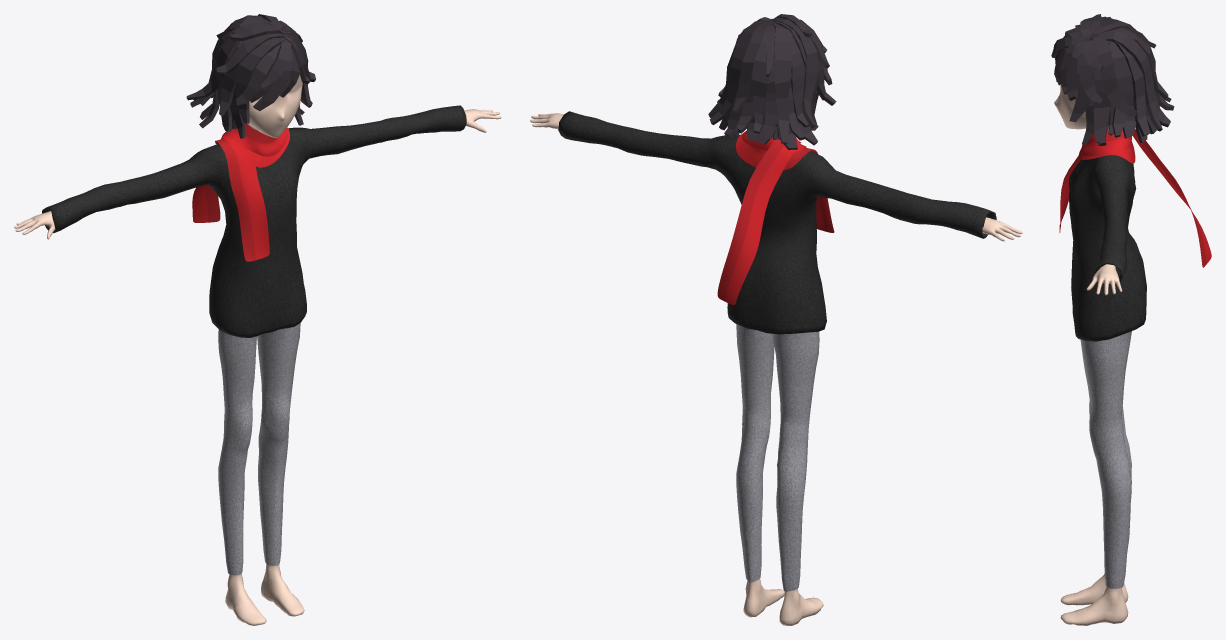
The model's file is girl_OBJ.obj.
3 views of the same model, side by side, from view 1: azimuth 30°, elevation 25°; view 2: azimuth 150°, elevation 25°; view 3: azimuth 270°, elevation 25° (orthographic).
Visible parts, largest first — view 1: Top_pERSONAJE.004, bot_pERSONAJE.005, hair_Hair001.baked.001, scarf_Cube, body_pERSONAJE.002, Head_Hair001.baked.005; view 2: Top_pERSONAJE.004, bot_pERSONAJE.005, hair_Hair001.baked.001, scarf_Cube, body_pERSONAJE.002; view 3: Top_pERSONAJE.004, hair_Hair001.baked.001, bot_pERSONAJE.005, body_pERSONAJE.002, scarf_Cube, Head_Hair001.baked.005.
Part boxes in pixels (x1,y1,x2,y2): Top_pERSONAJE.004: [42, 105, 466, 337]; bot_pERSONAJE.005: [218, 323, 300, 575]; hair_Hair001.baked.001: [186, 14, 315, 138]; scarf_Cube: [192, 123, 289, 261]; body_pERSONAJE.002: [14, 109, 501, 625]; Head_Hair001.baked.005: [249, 74, 302, 137]; Top_pERSONAJE.004: [558, 111, 996, 334]; bot_pERSONAJE.005: [736, 324, 819, 591]; hair_Hair001.baked.001: [708, 14, 836, 149]; scarf_Cube: [717, 131, 834, 305]; body_pERSONAJE.002: [530, 113, 1022, 625]; Top_pERSONAJE.004: [1069, 155, 1146, 341]; hair_Hair001.baked.001: [1051, 14, 1174, 145]; bot_pERSONAJE.005: [1080, 331, 1131, 588]; body_pERSONAJE.002: [1060, 125, 1128, 625]; scarf_Cube: [1059, 129, 1211, 267]; Head_Hair001.baked.005: [1054, 84, 1086, 129].
Size of the model in its own units: 1.39 by 1.61 by 0.3962.
6 materials, 6 textured.
